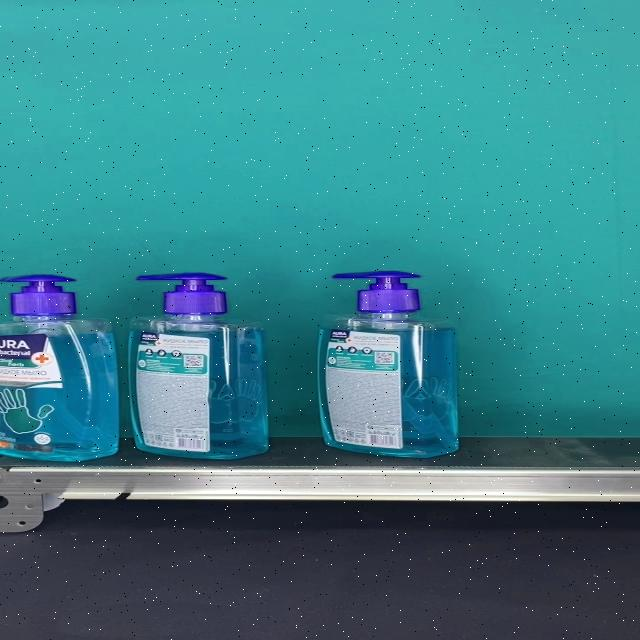Bottle: (318, 271, 460, 458), (129, 272, 268, 460), (0, 274, 119, 462)
Cap: (137, 272, 228, 314), (332, 271, 421, 312), (0, 273, 77, 314)
